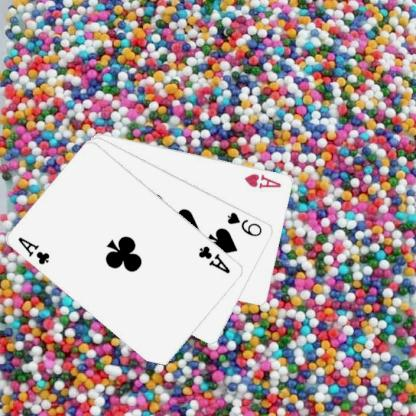9S: (224, 209, 264, 238)
AC: (196, 243, 232, 275), (16, 234, 52, 266)
AH: (242, 170, 283, 190)
